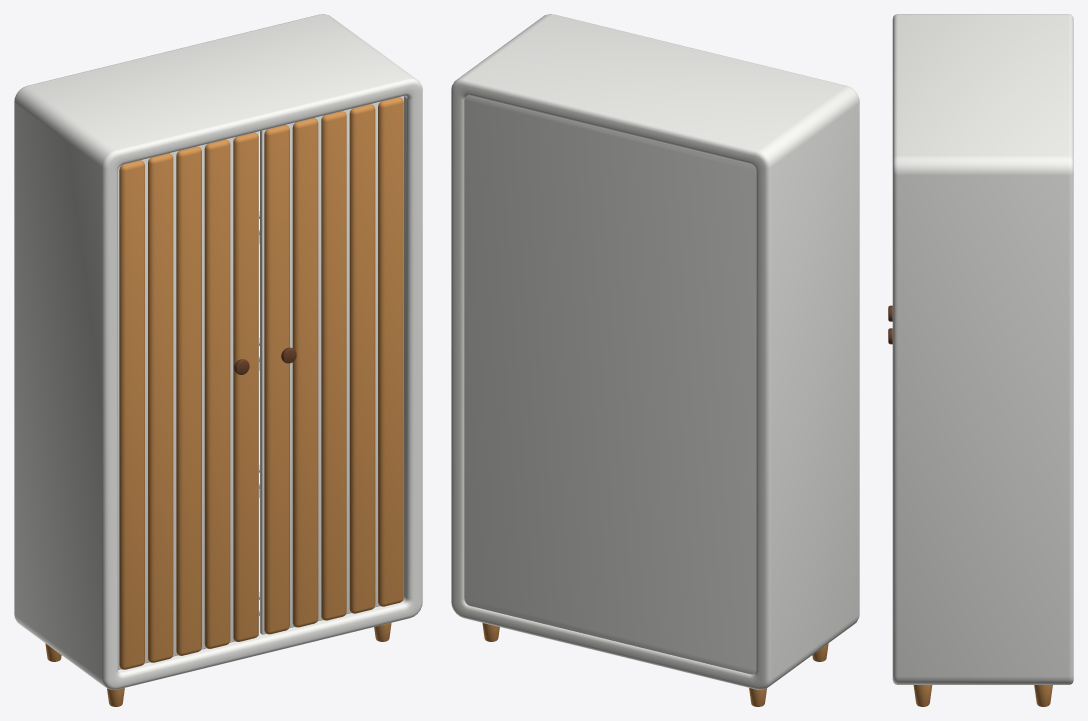
File: sapateira_alta_ripada_mel.glb
3 views of the same model, side by side, from view 1: azimuth 30°, elevation 25°; view 2: azimuth 150°, elevation 25°; view 3: azimuth 270°, elevation 25° (orthographic). The views are drawn at different scales.
Visible parts, largest first — view 1: sapateira_alta_ripada_mel, porta_2, porta_1; view 2: sapateira_alta_ripada_mel; view 3: sapateira_alta_ripada_mel.
Part boxes in pixels (<box>): sapateira_alta_ripada_mel: <box>14,14,422,706</box>; porta_2: <box>260,96,403,634</box>; porta_1: <box>118,131,258,669</box>; sapateira_alta_ripada_mel: <box>451,14,859,706</box>; sapateira_alta_ripada_mel: <box>892,14,1073,706</box>.
Size of the model in its own units: 0.72 by 1.22 by 0.369.
Materials: 1 (1 with a texture image).
